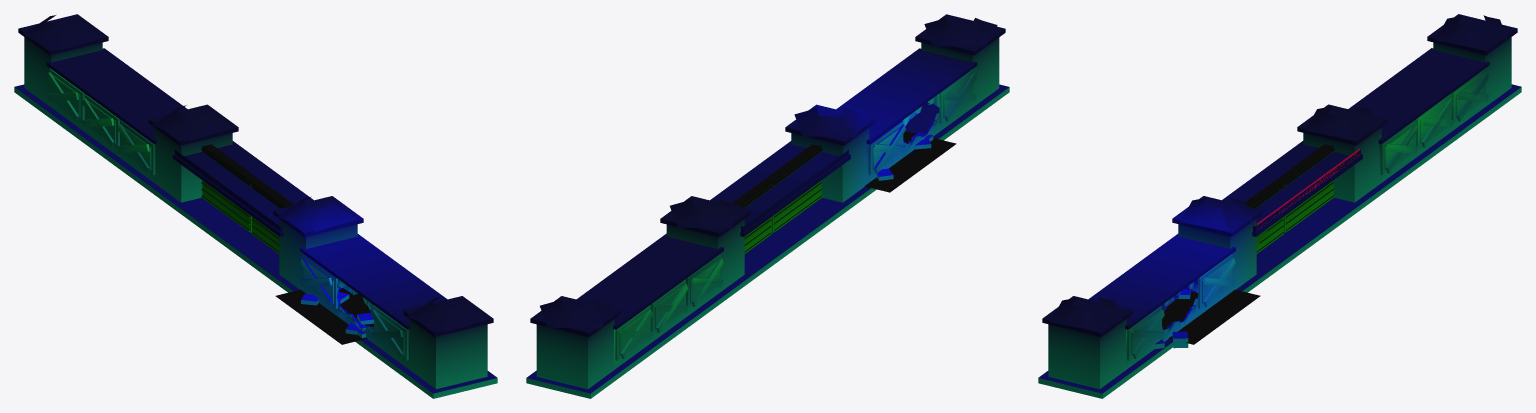
Rendered from l_lightgate_damaged.glb.
The picture shows the model from 3 angles, left to right: view 1: azimuth 30°, elevation 25°; view 2: azimuth 150°, elevation 25°; view 3: azimuth 330°, elevation 25°; orthographic projection.
Visible parts, largest first — view 1: lod0, door_l, door_r; view 2: lod0, door_r, door_l; view 3: lod0, door_l, door_r.
Boxes of the visible parts, box(x1,y1,x2,y2) form: lod0: box(14, 14, 497, 398); door_l: box(201, 144, 259, 232); door_r: box(252, 180, 293, 253); lod0: box(526, 14, 1009, 398); door_r: box(764, 144, 822, 233); door_l: box(732, 180, 771, 253); lod0: box(1038, 14, 1521, 398); door_l: box(1276, 144, 1334, 232); door_r: box(1245, 180, 1283, 253).
Size of what is drawn, in the model's own units: 8 by 6.02 by 56.87.
